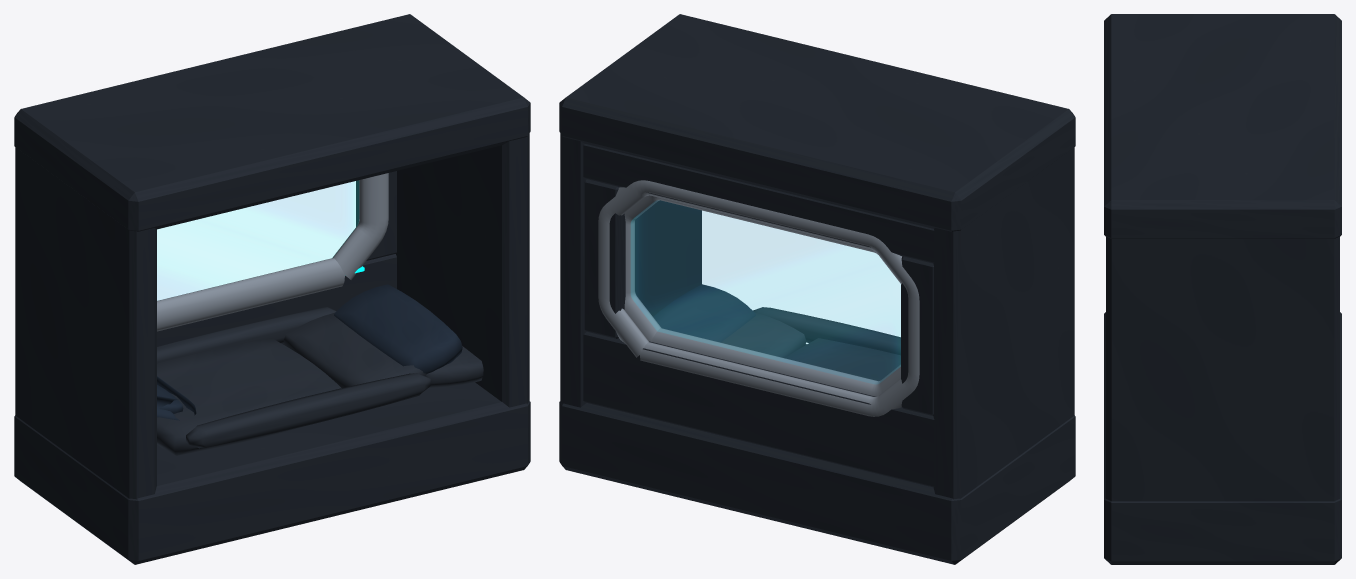
Rendered from bunk_winner_01_orbital_viewport.glb.
3 views of the same model, side by side, from view 1: azimuth 30°, elevation 25°; view 2: azimuth 150°, elevation 25°; view 3: azimuth 270°, elevation 25° (orthographic). The views are drawn at different scales.
Parts seen in each view (by area): view 1: ViewportPod_GunmetalHullAlcove, ViewportPod_ZeroGLoungeCouch, ViewportPod_TranslucentViewportGlass, ViewportPod_OctagonalTitaniumBezel, ViewportPod_OrbitalNavyBolsters; view 2: ViewportPod_GunmetalHullAlcove, ViewportPod_TranslucentViewportGlass, ViewportPod_OctagonalTitaniumBezel, ViewportPod_ZeroGLoungeCouch, ViewportPod_OrbitalNavyBolsters; view 3: ViewportPod_GunmetalHullAlcove.
Boxes of the visible parts, bbox=[...] form: ViewportPod_GunmetalHullAlcove: bbox=[14, 14, 530, 564]; ViewportPod_ZeroGLoungeCouch: bbox=[157, 307, 483, 455]; ViewportPod_TranslucentViewportGlass: bbox=[157, 181, 358, 300]; ViewportPod_OctagonalTitaniumBezel: bbox=[157, 173, 388, 331]; ViewportPod_OrbitalNavyBolsters: bbox=[157, 284, 462, 420]; ViewportPod_GunmetalHullAlcove: bbox=[559, 14, 1075, 564]; ViewportPod_TranslucentViewportGlass: bbox=[631, 201, 900, 383]; ViewportPod_OctagonalTitaniumBezel: bbox=[598, 180, 919, 416]; ViewportPod_ZeroGLoungeCouch: bbox=[721, 307, 900, 381]; ViewportPod_OrbitalNavyBolsters: bbox=[653, 284, 755, 342]; ViewportPod_GunmetalHullAlcove: bbox=[1104, 14, 1341, 564].
Bounding box in the file's own units: 2.18 × 1.93 × 1.14.
Materials: 6 (6 with a texture image).
